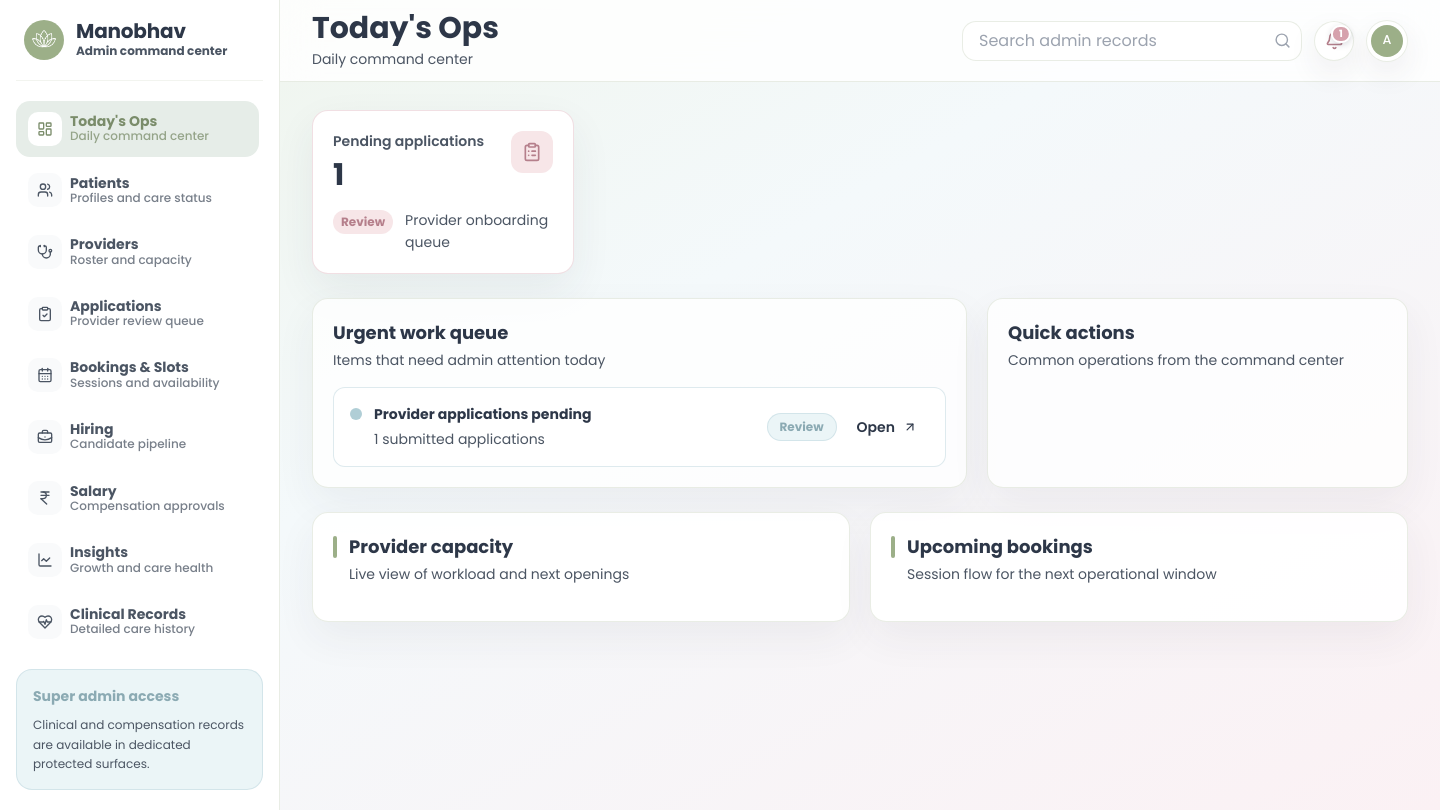
Scenario: AdminDashboardRoute admin application review flow › navigates from the pending applications Review card to the pending applications list
Expected: the text "Pending applications" is shown, left=333, top=131, right=484, bottom=152
Click the button "Review" at (363, 222), box left=333, top=210, right=393, bottom=234
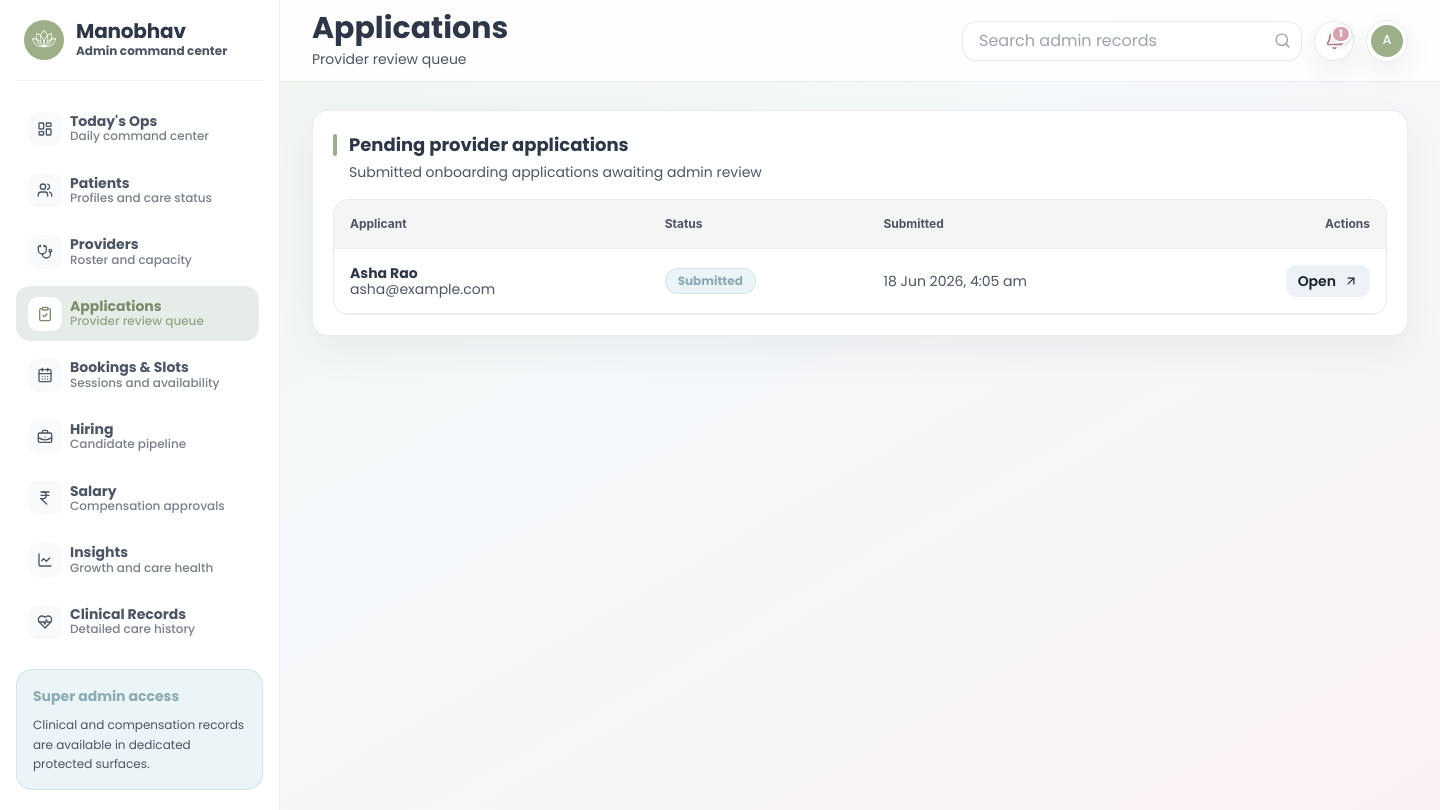
Expected: the heading "Pending provider applications" is shown, left=349, top=131, right=629, bottom=158
